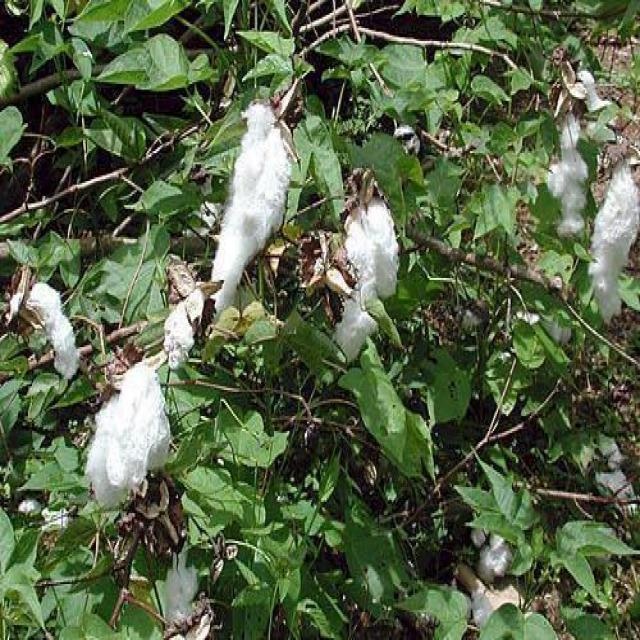Early_blight: (203, 92, 301, 336), (323, 162, 403, 376), (80, 346, 177, 520), (547, 36, 610, 247), (585, 129, 640, 339), (6, 279, 82, 386)
